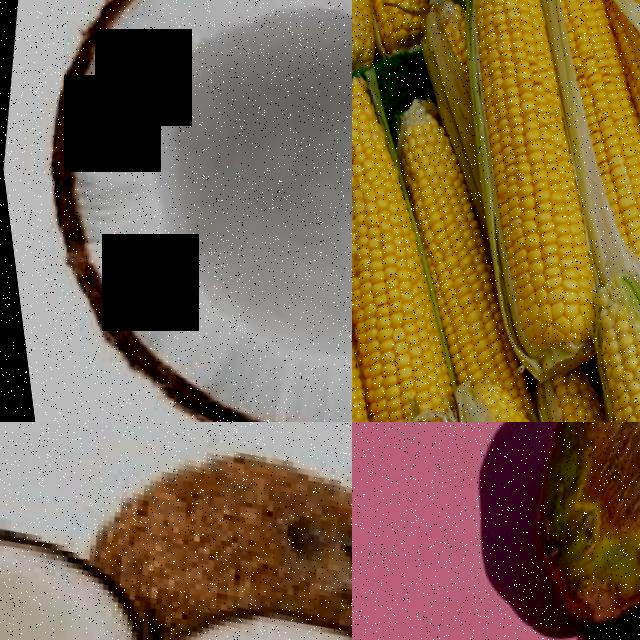coconut: (0, 0, 352, 422), (491, 422, 640, 606), (0, 490, 171, 640)
corn: (388, 0, 640, 367), (352, 66, 503, 422), (533, 9, 640, 286), (362, 106, 503, 290), (554, 276, 640, 422)
